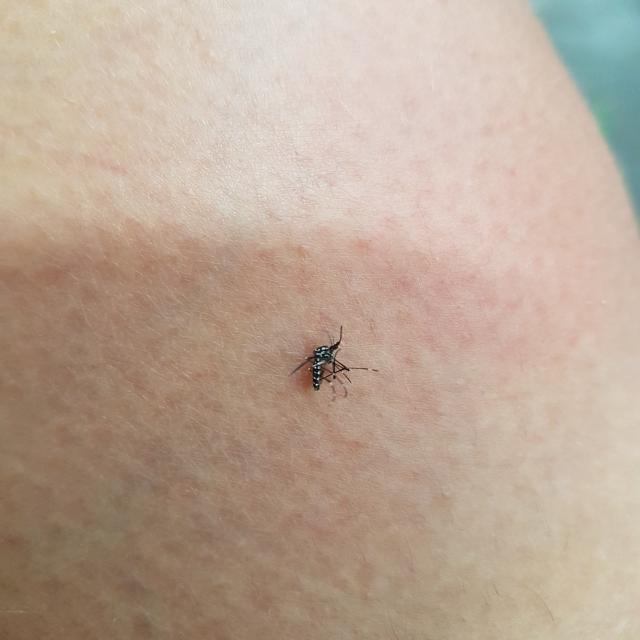albopictus: (282, 324, 374, 403)
